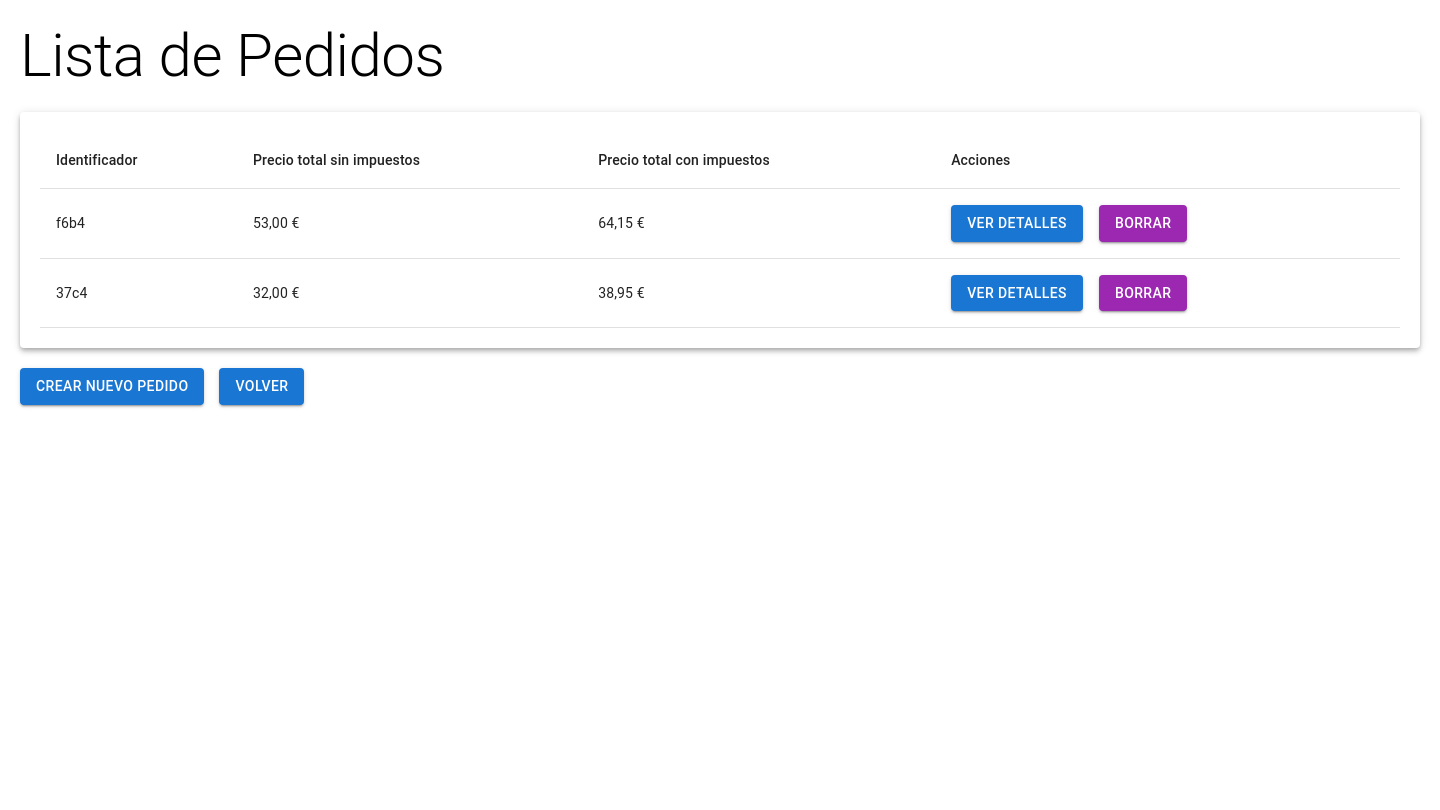
Articles › click and delete correctly
Expected: the text "37c4" is shown, top-left (40, 258), bottom-right (237, 328)
Click the button "Borrar" in the row of "37c4": (1143, 293) top-left (1099, 274), bottom-right (1187, 311)
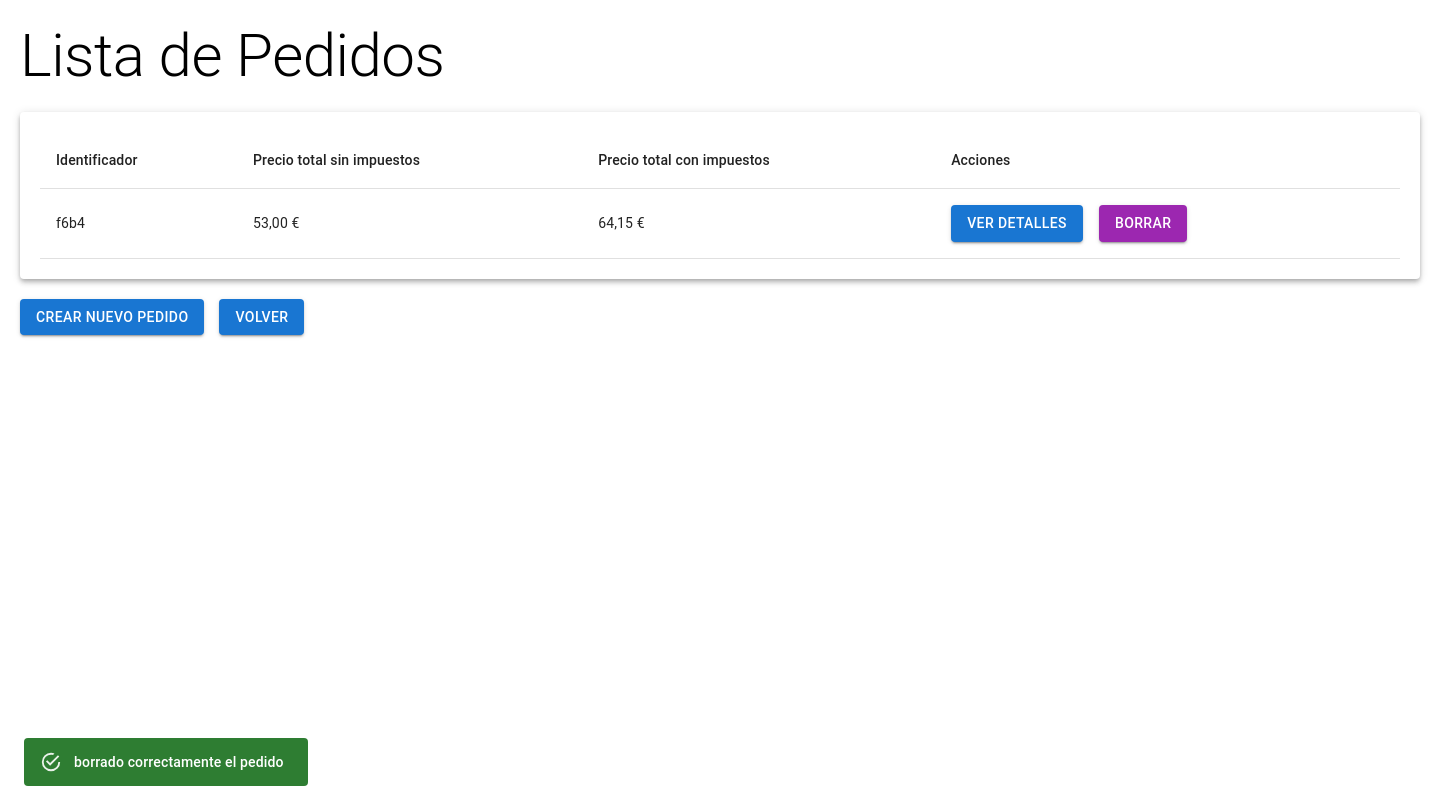
Expected: the text "37c4" is gone
Expected: the text "borrado correctamente el pedido" is shown, top-left (74, 754), bottom-right (284, 770)
